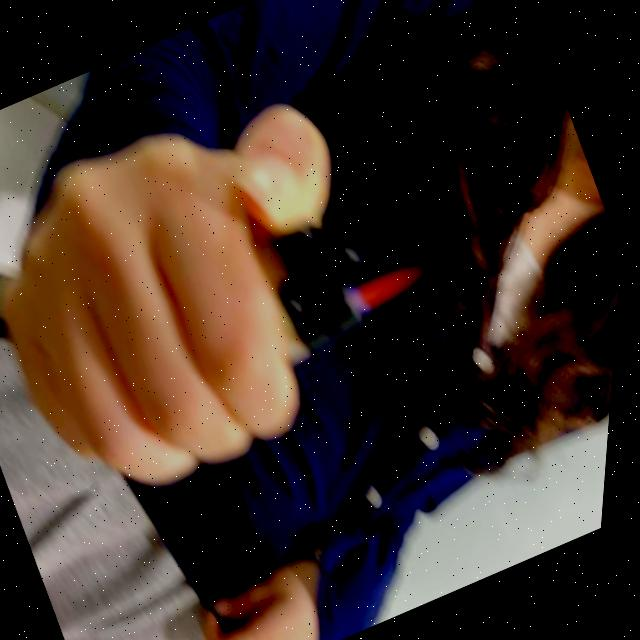Fire: (344, 248, 455, 324)
